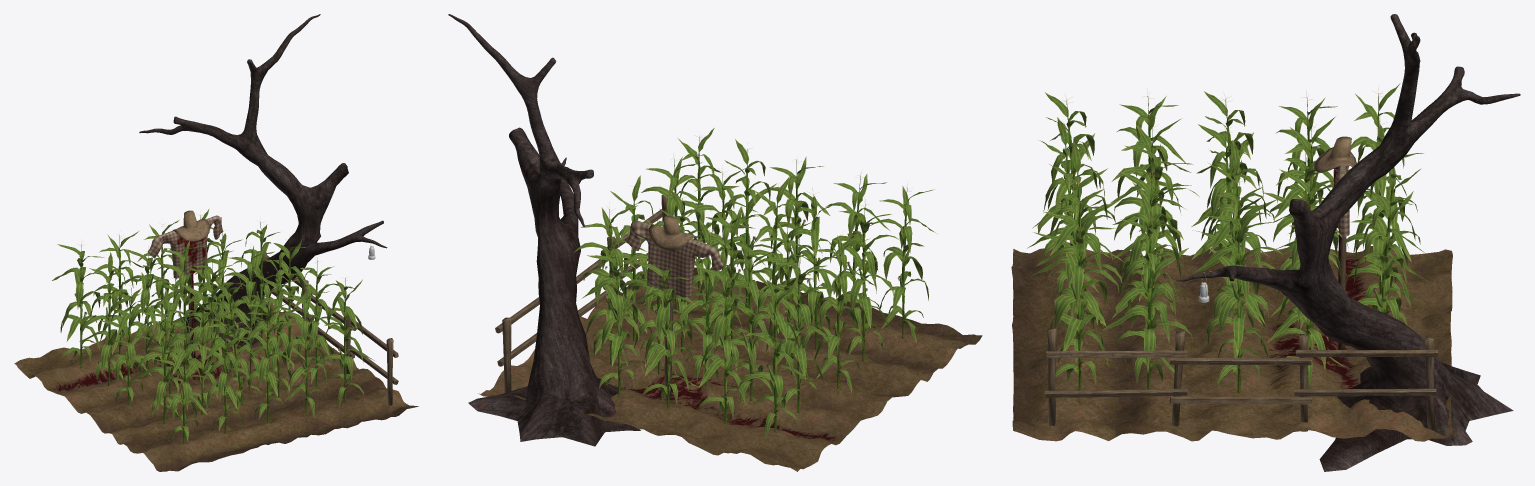
3 renders of one model, left to right at view 1: azimuth 30°, elevation 25°; view 2: azimuth 150°, elevation 25°; view 3: azimuth 270°, elevation 25°, orthographic. The views are drawn at different scales.
Visible parts, largest first — view 1: Ground, Tree, Cube.003, Cube.001, Cube, Cylinder.076; view 2: Ground, Tree, Cube.003, Cube.001, Cylinder.076, Cube; view 3: Ground, Tree, Cube.001, Cube, Cylinder.076.
Part boxes in pixels (bbox=[...]): Ground: bbox=[14, 302, 418, 471]; Tree: bbox=[139, 14, 387, 346]; Cube.003: bbox=[147, 215, 223, 278]; Cube.001: bbox=[266, 255, 398, 384]; Cube: bbox=[259, 252, 393, 405]; Cylinder.076: bbox=[172, 210, 209, 241]; Ground: bbox=[478, 267, 982, 471]; Tree: bbox=[448, 14, 640, 446]; Cube.003: bbox=[627, 220, 724, 298]; Cube.001: bbox=[495, 209, 662, 366]; Cylinder.076: bbox=[648, 216, 696, 251]; Cube: bbox=[502, 195, 667, 393]; Ground: bbox=[1011, 242, 1452, 441]; Tree: bbox=[1176, 14, 1520, 471]; Cube.001: bbox=[1045, 349, 1437, 404]; Cube: bbox=[1047, 328, 1434, 431]; Cylinder.076: bbox=[1314, 136, 1356, 172].
Bounding box in the file's own units: 5.56 × 5.48 × 5.61.
